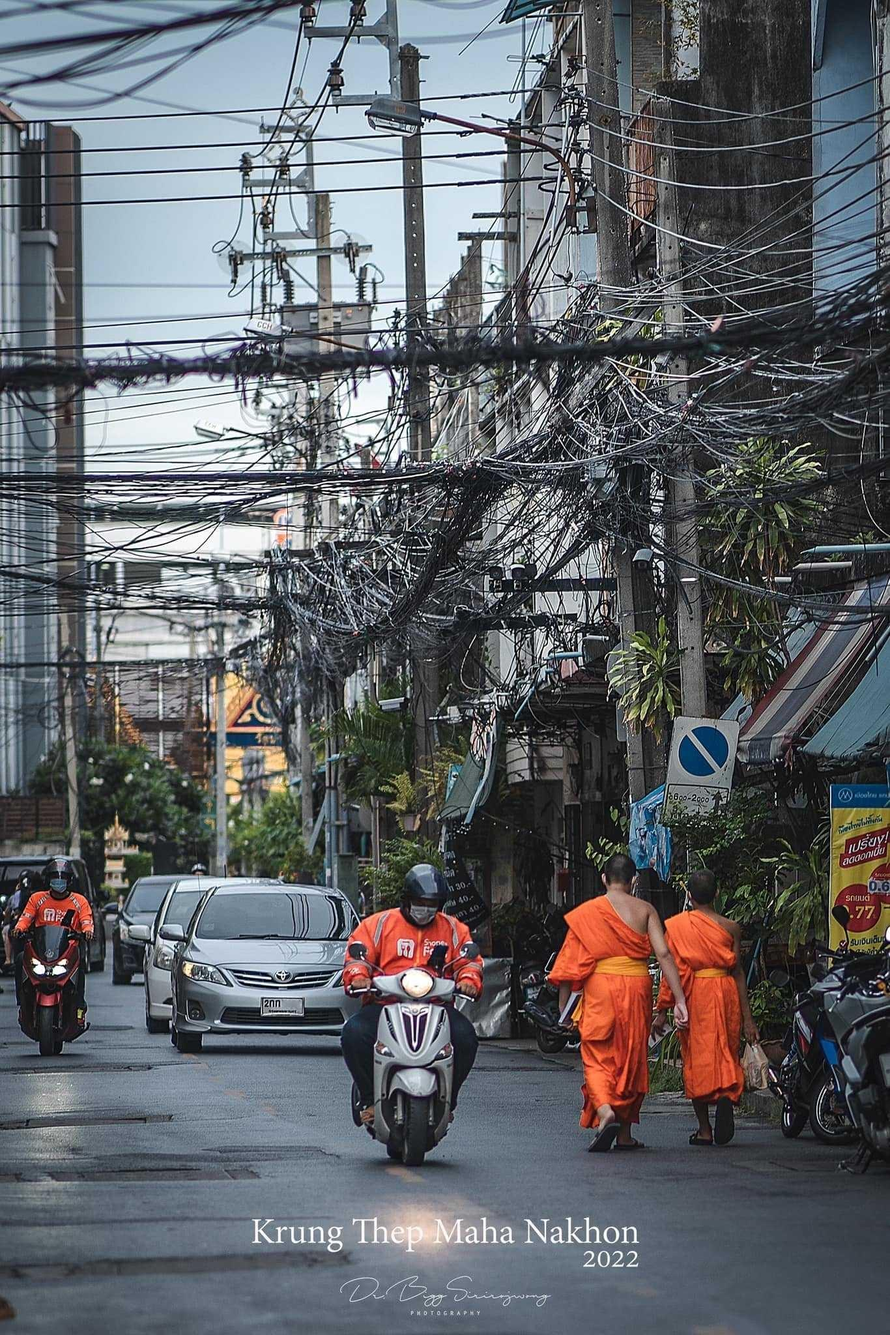wires: (1, 0, 890, 645)
